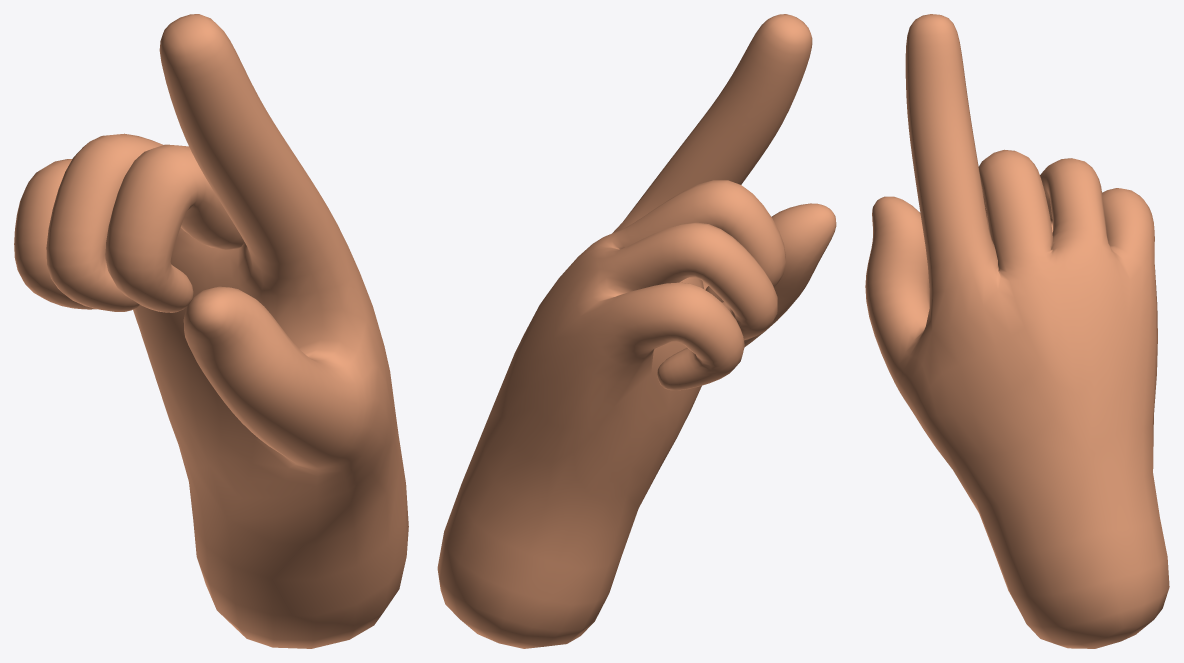
File: hand.fbx
The picture shows the model from 3 angles, left to right: view 1: azimuth 30°, elevation 25°; view 2: azimuth 150°, elevation 25°; view 3: azimuth 270°, elevation 25°; orthographic projection. The views are drawn at different scales.
Visible parts, largest first — view 1: Cube.001; view 2: Cube.001; view 3: Cube.001.
Part boxes in pixels (x1,y1,x2,y2): Cube.001: (14, 14, 408, 648); Cube.001: (437, 14, 836, 648); Cube.001: (865, 14, 1169, 648).
Size of the model in its own units: 170 by 326 by 164.
